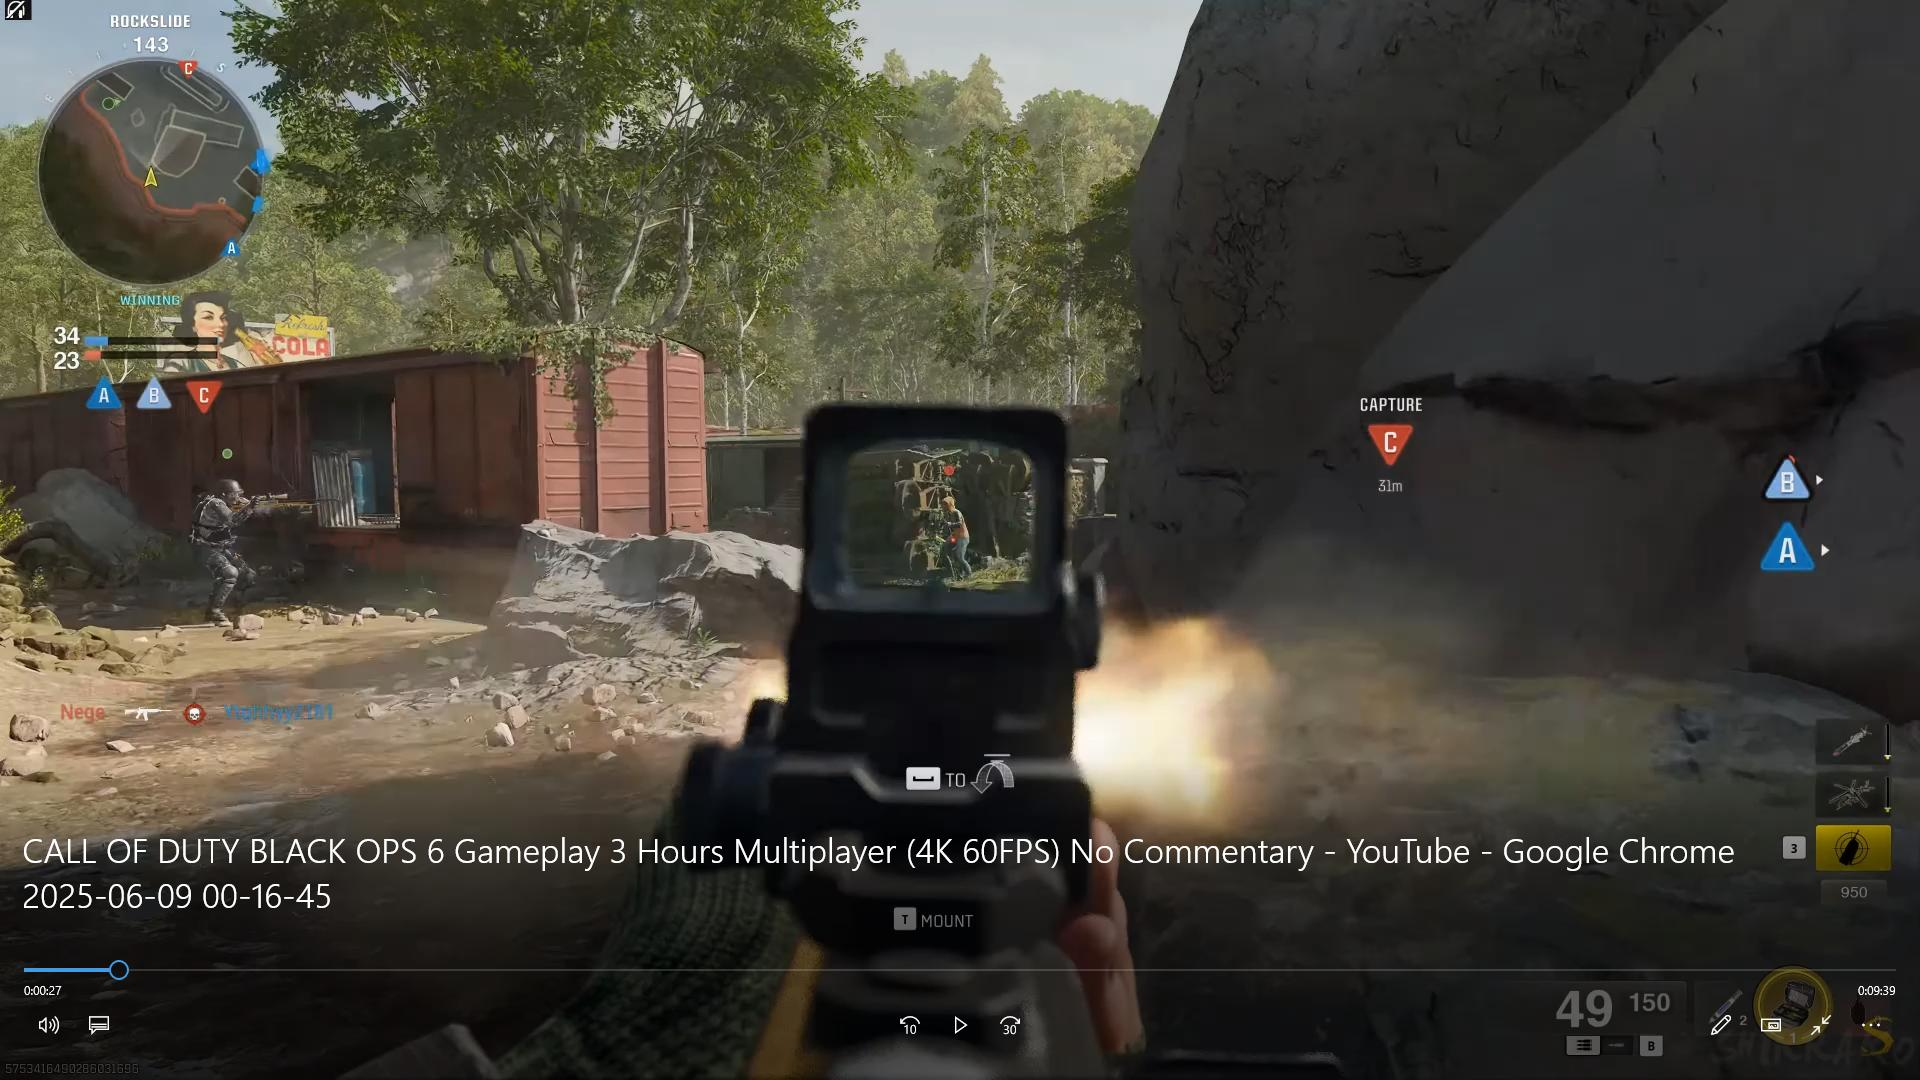Enemy: (190, 477, 269, 626), (928, 496, 981, 580)
